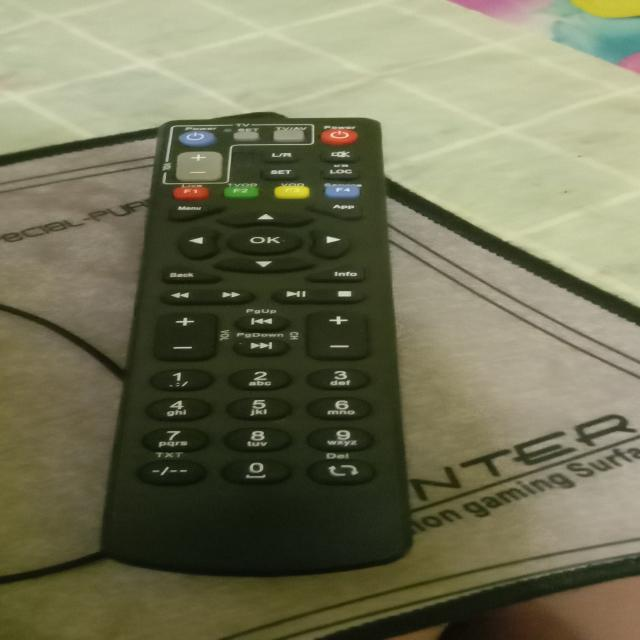remote: (98, 114, 410, 568)
